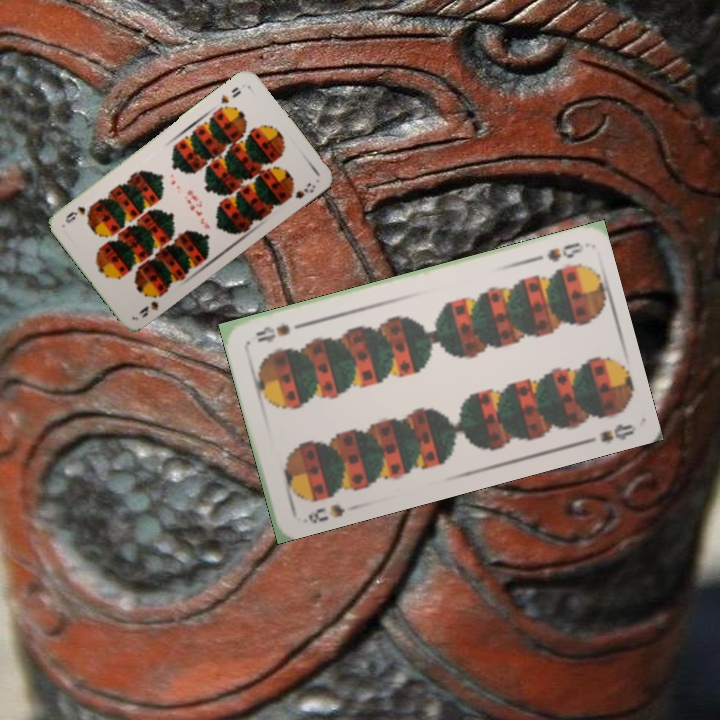S8: (526, 238, 585, 265), (304, 500, 348, 526)
S9: (135, 288, 167, 320), (216, 83, 243, 107)
